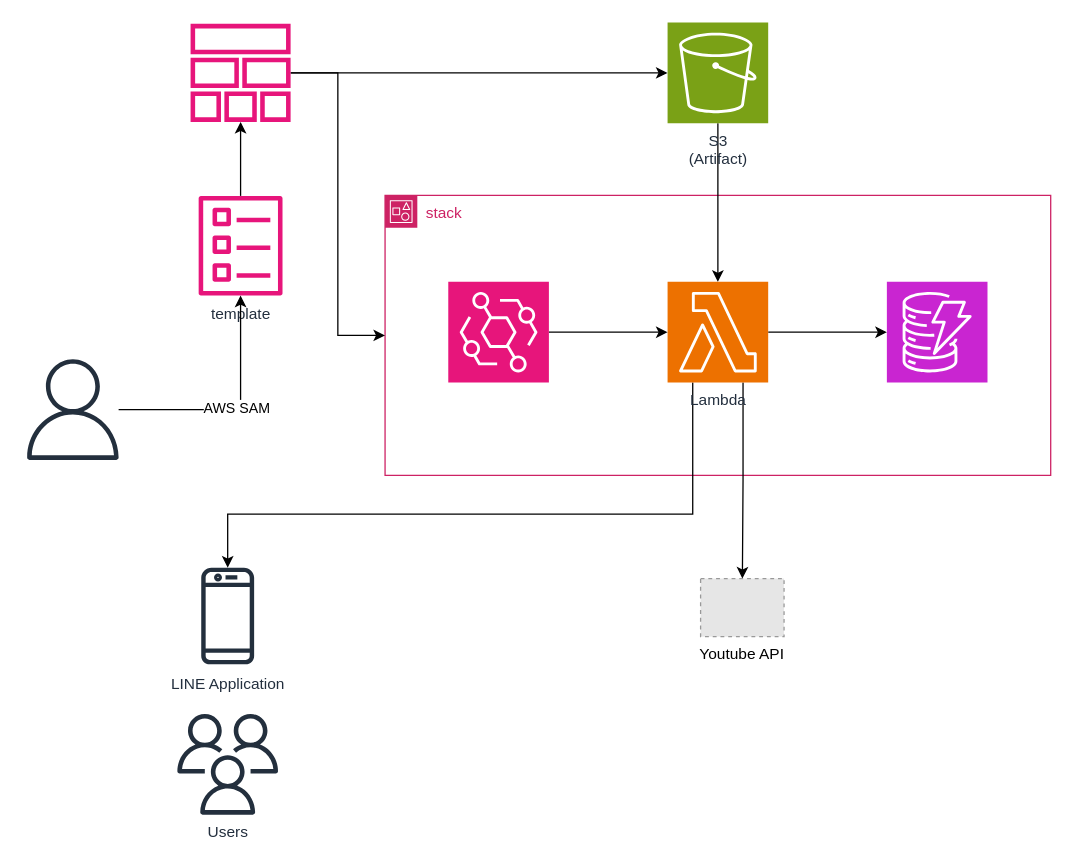
Image size: 1073x864. Some labels were removed from this diagram. Grey dashed boxes stand in for pictures. The centre of each missing label's shape, as x and y in pixels:
"CloudFormation (stack)" goes at pixel 240 72.
"Developer" goes at pixel 72 409.
"DynamoDB" goes at pixel 936 331.
"EventBridge" goes at pixel 498 331.
